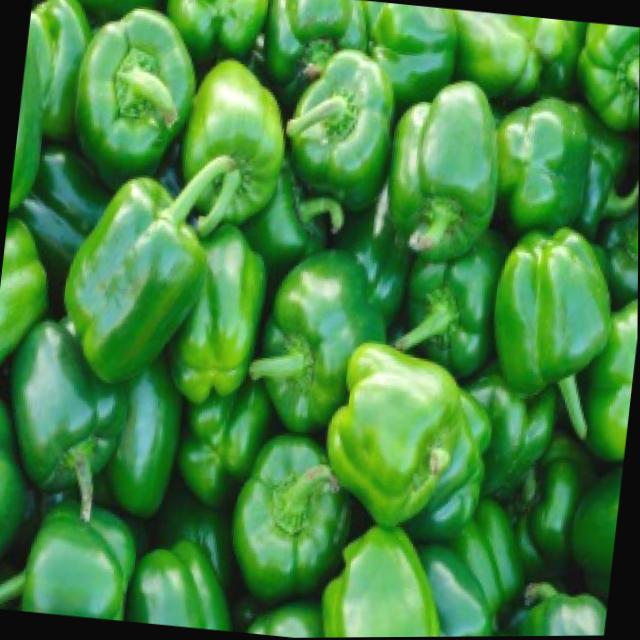Capsicum: (50, 163, 220, 392), (324, 342, 498, 540), (477, 218, 625, 408), (378, 69, 515, 272), (256, 242, 384, 440), (220, 441, 366, 607), (166, 48, 293, 229), (66, 10, 195, 182), (267, 47, 388, 214), (488, 89, 599, 244), (18, 494, 142, 622), (316, 518, 445, 638), (130, 521, 241, 631), (135, 0, 137, 10)
